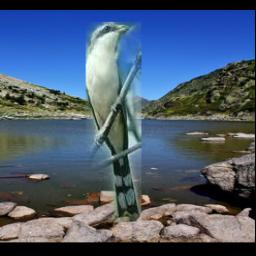Cuckoo: (86, 22, 141, 223)
